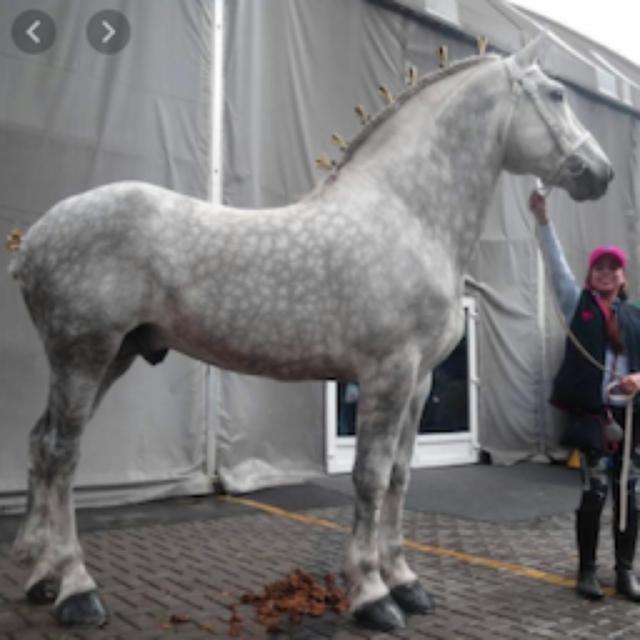Horse: (2, 27, 620, 635)
